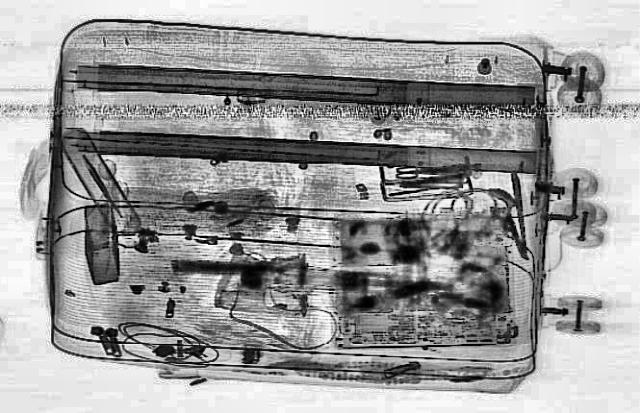Scissors: (394, 162, 446, 178)
